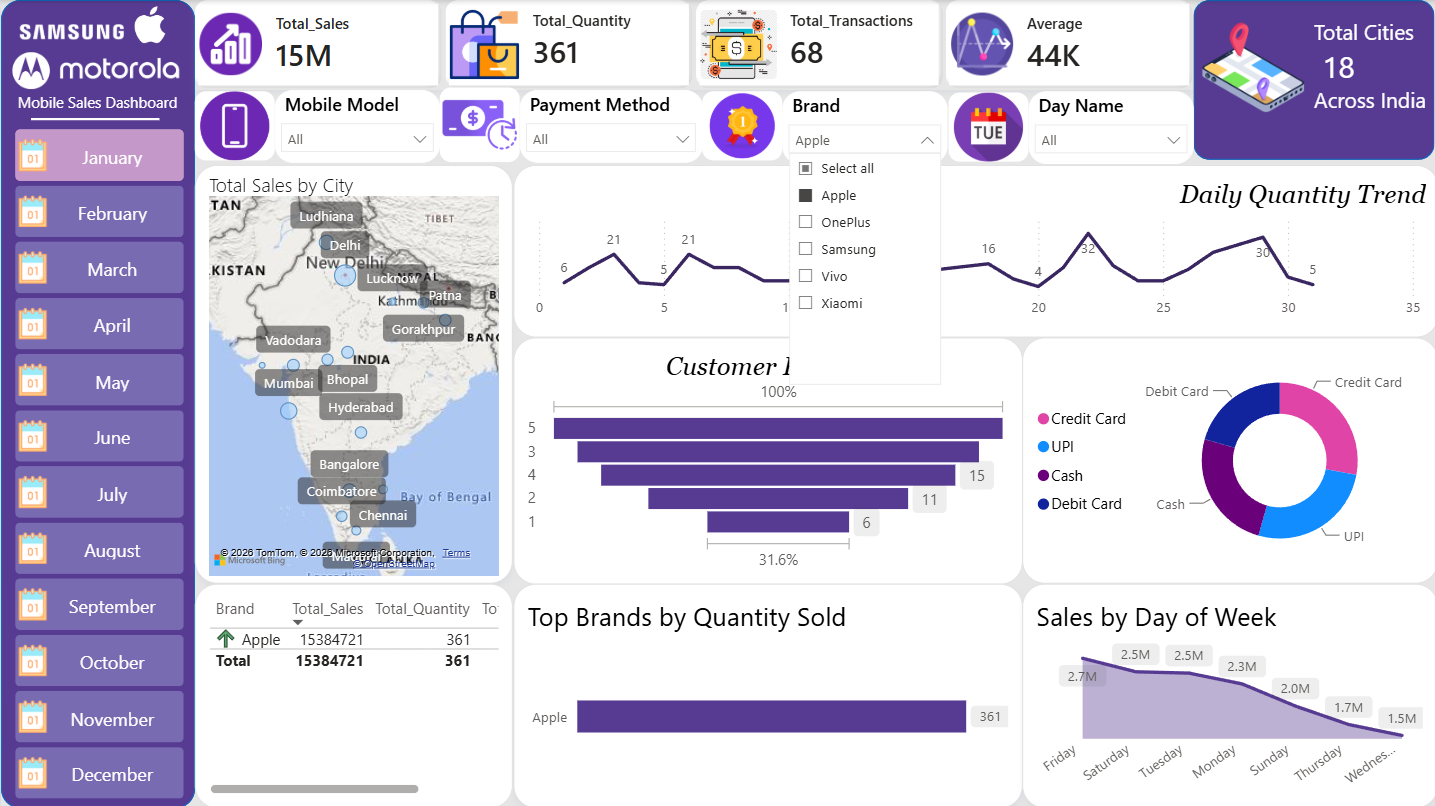

This screenshot's page, from the dashboard's own definition file:
{"tool":"powerbi","page":{"name":"Page 1","canvas":[1280,720],"ordinal":0},"visuals":[{"type":"shape","box":[0,0,172.9,720],"z":0},{"type":"image","box":[17.1,6.1,92.9,45.7],"z":1000},{"type":"image","box":[110.1,6.1,45.2,33],"z":2000},{"type":"image","box":[10,34.3,148.6,57.1],"z":3000},{"type":"textbox","box":[9.7,77.2,162.9,32.6],"z":4000},{"type":"advancedSlicerVisual","fields":{"Values":["SALES_DATA.Date.Variation.Date Hierarchy.Month"]},"box":[7.2,109.8,160.5,610.5],"z":5000},{"type":"cardVisual","fields":{"Data":["SALES_DATA.Total_Sales1","SALES_DATA.Total_Quantity","SALES_DATA.Total_Transactions","SALES_DATA.Average"]},"box":[172.5,0,892.8,79.6],"z":6000},{"type":"map","title":"Total Sales by City","fields":{"Category":["SALES_DATA.City"],"Size":["Sum(SALES_DATA.Total_sales)"]},"box":[172.5,147.2,283.5,372.8],"z":7000},{"type":"lineChart","title":"Daily Quantity Trend","fields":{"Category":["SALES_DATA.Date.Variation.Date Hierarchy.Year","SALES_DATA.Date.Variation.Date Hierarchy.Month","SALES_DATA.Date.Variation.Date Hierarchy.Day"],"Y":["SALES_DATA.Total_Quantity"]},"box":[456,147.2,824,153.2],"z":8000},{"type":"funnel","title":"Customer Ratings","fields":{"Category":["SALES_DATA.Customer Ratings"],"Y":["CountNonNull(SALES_DATA.Customer Ratings)"]},"box":[456.2,300.4,453.8,220],"z":9000},{"type":"donutChart","fields":{"Category":["SALES_DATA.Payment Method"],"Y":["SALES_DATA.Total_Transactions"]},"box":[909.7,300.4,370.4,219.6],"z":10000},{"type":"clusteredBarChart","title":"Top Brands by Quantity Sold","fields":{"Category":["SALES_DATA.Brand"],"Y":["SALES_DATA.Total_Quantity"]},"box":[456,520,453.8,200],"z":11000},{"type":"areaChart","title":"Sales by Day of Week","fields":{"Category":["SALES_DATA.Day Name"],"Y":["SALES_DATA.Total_Sales"]},"box":[909.7,520,370.4,200.3],"z":12000},{"type":"tableEx","fields":{"Values":["SALES_DATA.Brand","SALES_DATA.Total_Sales","SALES_DATA.Total_Quantity","SALES_DATA.Total_Transactions"]},"box":[172.5,520,283.5,200.3],"z":13000},{"type":"shape","box":[26.5,94.1,114.6,22.9],"z":14000},{"type":"slicer","fields":{"Values":["SALES_DATA.Mobile Model"]},"box":[243.7,79.6,147.2,65.1],"z":15000},{"type":"image","box":[172.5,80.8,71.2,61.5],"z":16000},{"type":"slicer","fields":{"Values":["SALES_DATA.Payment Method"]},"box":[462.1,79.6,162.9,65.1],"z":17000},{"type":"image","box":[390.9,78.4,71.2,66.4],"z":18000},{"type":"shape","box":[1061.7,0,214.7,142.4],"z":18500},{"type":"image","box":[624.9,80.8,71.2,61.5],"z":19000},{"type":"image","box":[843.3,82,71.2,61.5],"z":20000},{"type":"slicer","fields":{"Values":["SALES_DATA.Brand"]},"box":[696.1,80.8,147.2,65.1],"z":21000},{"type":"slicer","fields":{"Values":["SALES_DATA.Day Name"]},"box":[914.5,80.8,147.2,65.1],"z":23000},{"type":"image","box":[1030.3,9.7,168.9,100.1],"z":24500},{"type":"textbox","box":[1164.2,10.9,112.2,136.3],"z":26001}]}

Visuals, with their boxes in screenshot pixels (x1, y1, x2, y2), scaled from the page's 1280x720 canvas onto the 1435x806 screenshot:
shape: 0 0 194 805
image: 19 7 123 58
image: 123 7 174 44
image: 11 38 178 102
textbox: 11 86 194 123
advancedSlicerVisual - SALES_DATA.Date.Variation.Date Hierarchy.Month: 8 123 188 805
cardVisual - SALES_DATA.Total_Sales1 x SALES_DATA.Total_Quantity: 193 0 1194 89
"Total Sales by City" map: 193 165 511 582
"Daily Quantity Trend" lineChart: 511 165 1434 336
"Customer Ratings" funnel: 511 336 1020 583
donutChart - SALES_DATA.Payment Method x SALES_DATA.Total_Transactions: 1020 336 1434 582
"Top Brands by Quantity Sold" clusteredBarChart: 511 582 1020 805
"Sales by Day of Week" areaChart: 1020 582 1434 805
tableEx - SALES_DATA.Brand x SALES_DATA.Total_Sales: 193 582 511 805
shape: 30 105 158 131
slicer - SALES_DATA.Mobile Model: 273 89 438 162
image: 193 90 273 159
slicer - SALES_DATA.Payment Method: 518 89 701 162
image: 438 88 518 162
shape: 1190 0 1431 159
image: 701 90 780 159
image: 945 92 1025 161
slicer - SALES_DATA.Brand: 780 90 945 163
slicer - SALES_DATA.Day Name: 1025 90 1190 163
image: 1155 11 1344 123
textbox: 1305 12 1431 165
